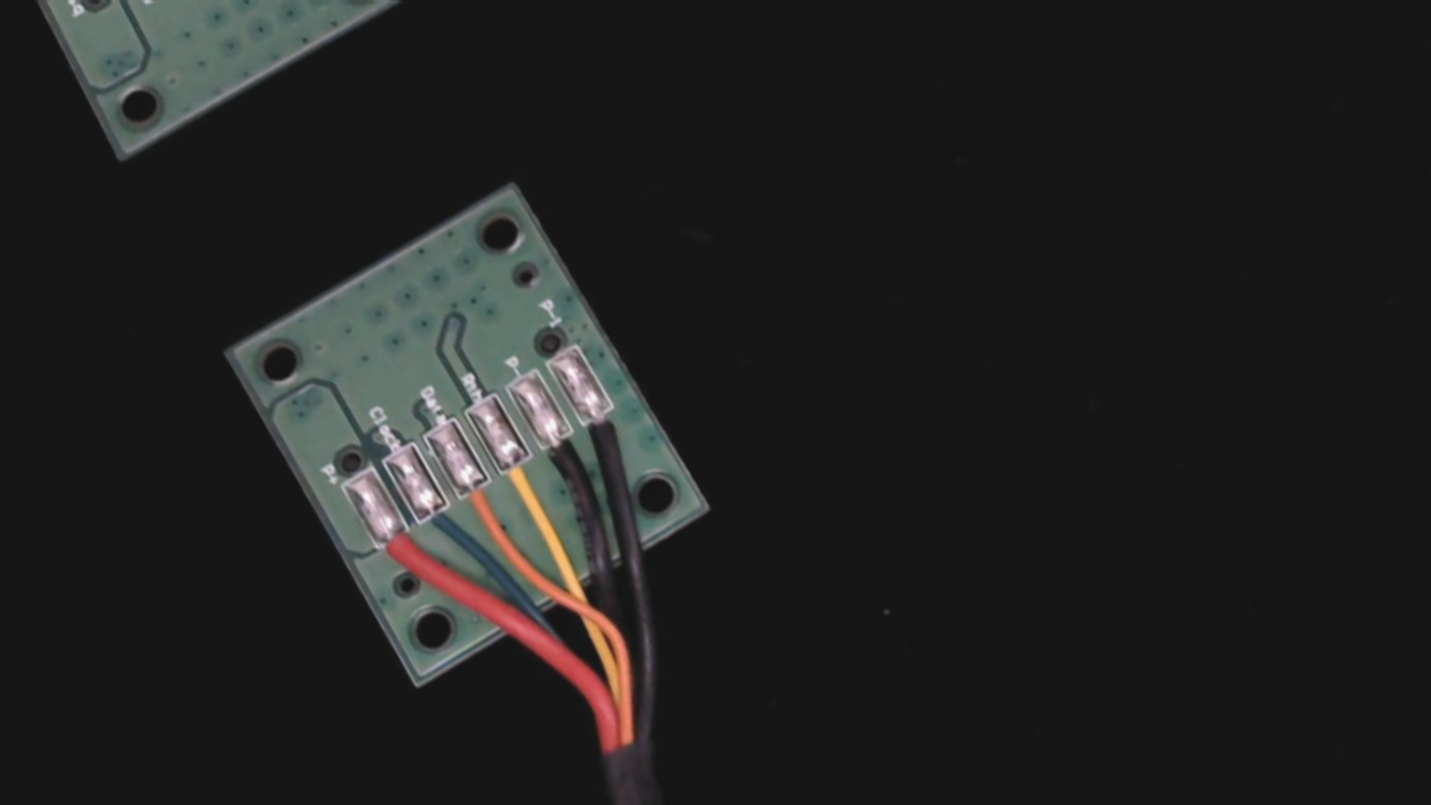Black: (526, 414, 601, 497)
Black1: (566, 385, 648, 475)
Green: (403, 485, 477, 563)
Orange: (444, 461, 522, 546)
Red: (361, 510, 445, 604)
Yellow: (484, 438, 563, 524)
